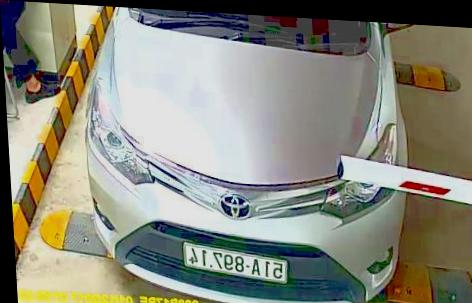License_Plate: (184, 246, 291, 281)
